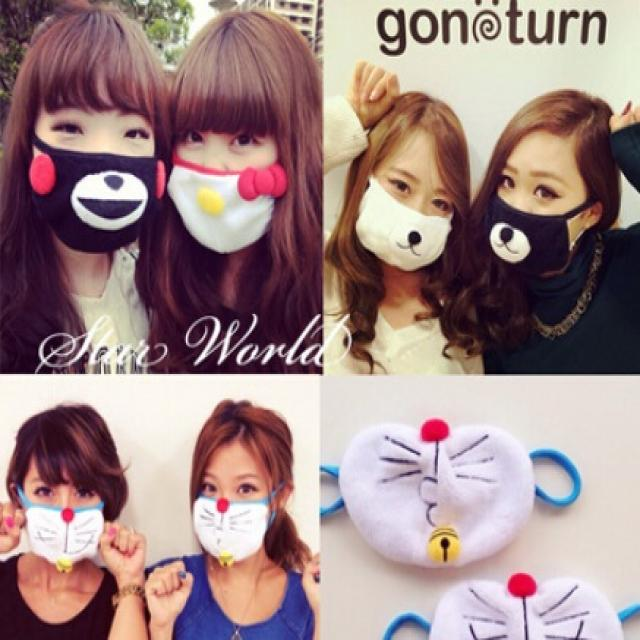mask: (31, 76, 162, 247), (166, 84, 276, 249), (482, 130, 587, 276), (356, 126, 461, 272), (193, 441, 270, 568), (26, 454, 100, 564)
